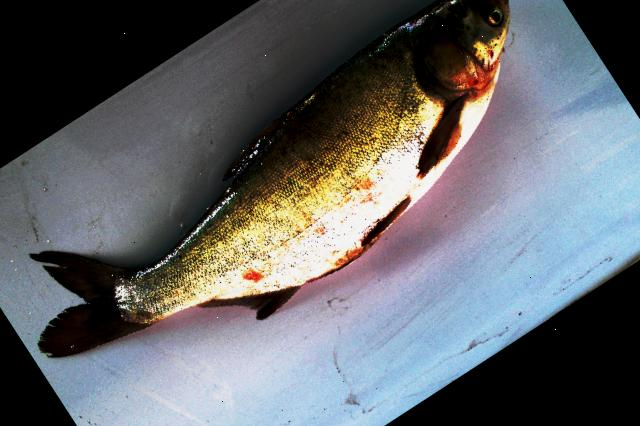Healthy Fish: (29, 0, 508, 356)
